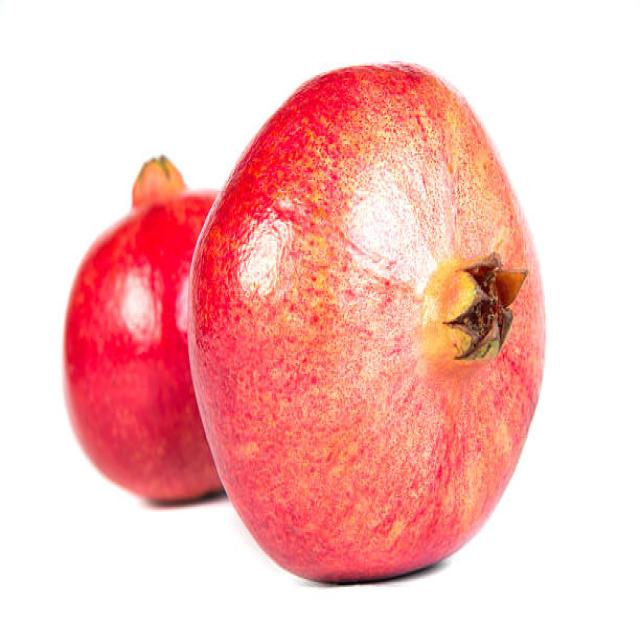Ripe: (188, 57, 550, 572), (58, 158, 212, 506)
